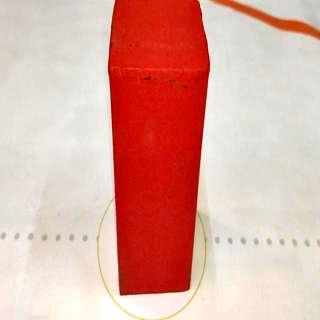redbox: (108, 0, 212, 294)
